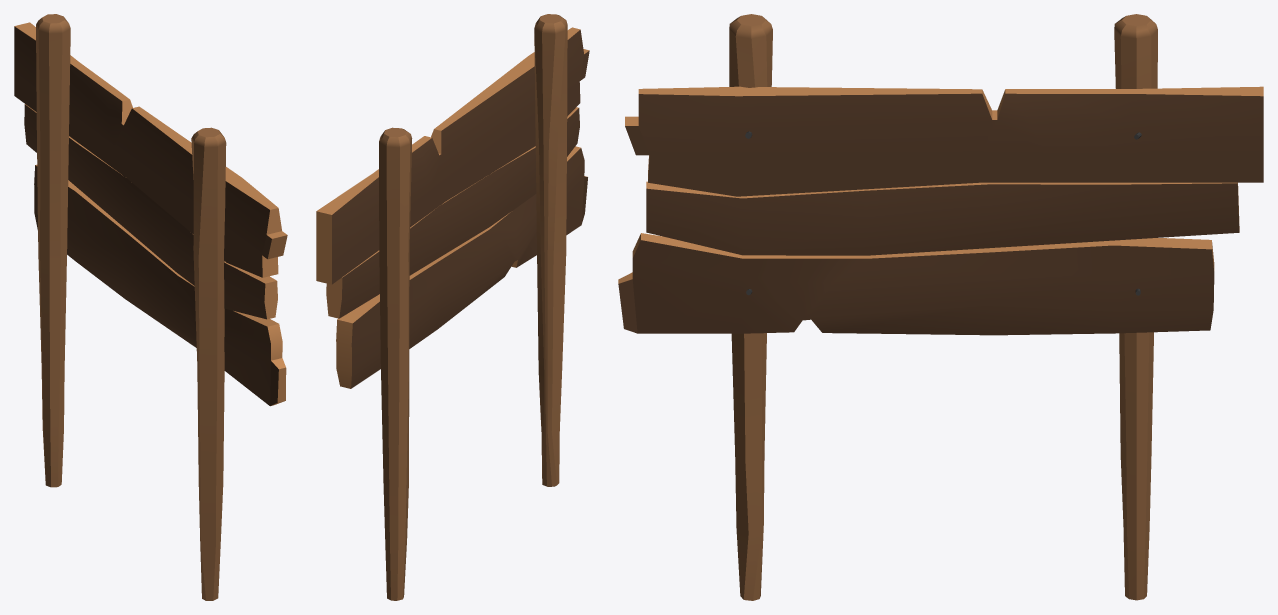
The model's file is th_sign_01.fbx.
The picture shows the model from 3 angles, left to right: view 1: azimuth 30°, elevation 25°; view 2: azimuth 150°, elevation 25°; view 3: azimuth 270°, elevation 25°; orthographic projection. The views are drawn at different scales.
Parts seen in each view (by area): view 1: sign_01; view 2: sign_01; view 3: sign_01.
Boxes of the visible parts, x1,y1,x2,y2 form: sign_01: (14,14,287,600); sign_01: (316,14,589,600); sign_01: (618,14,1263,600).
Size of the model in its own units: 11.06 by 97.75 by 98.94.
